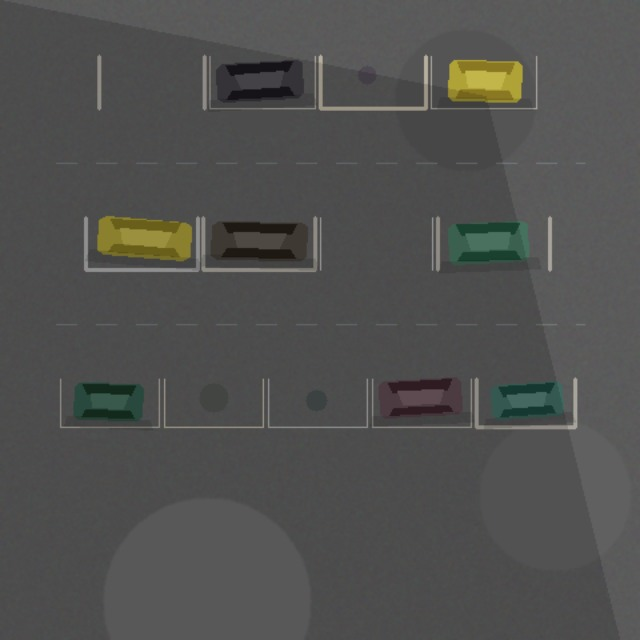space-empty: (320, 217, 432, 269), (99, 56, 204, 108), (320, 56, 425, 108), (164, 379, 263, 427), (268, 379, 367, 427)
space-occupied: (85, 217, 197, 269), (203, 217, 315, 269), (437, 217, 549, 269), (209, 56, 315, 108), (431, 56, 536, 108), (60, 379, 159, 427), (372, 379, 471, 427), (476, 379, 575, 427)
